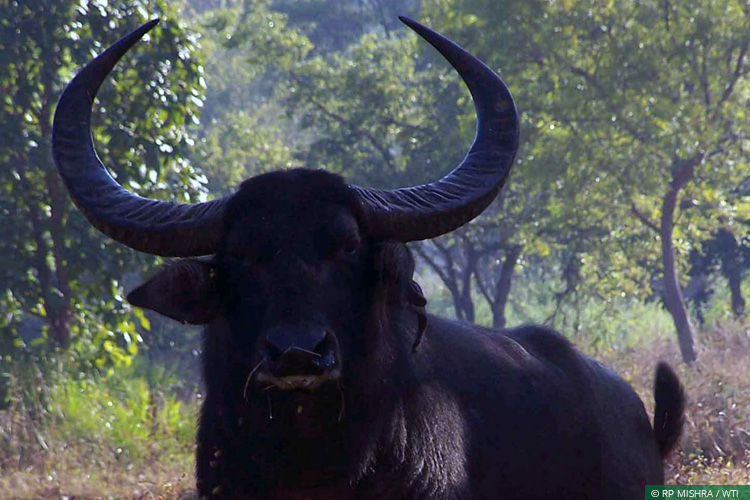buffalo: (49, 10, 688, 500)
